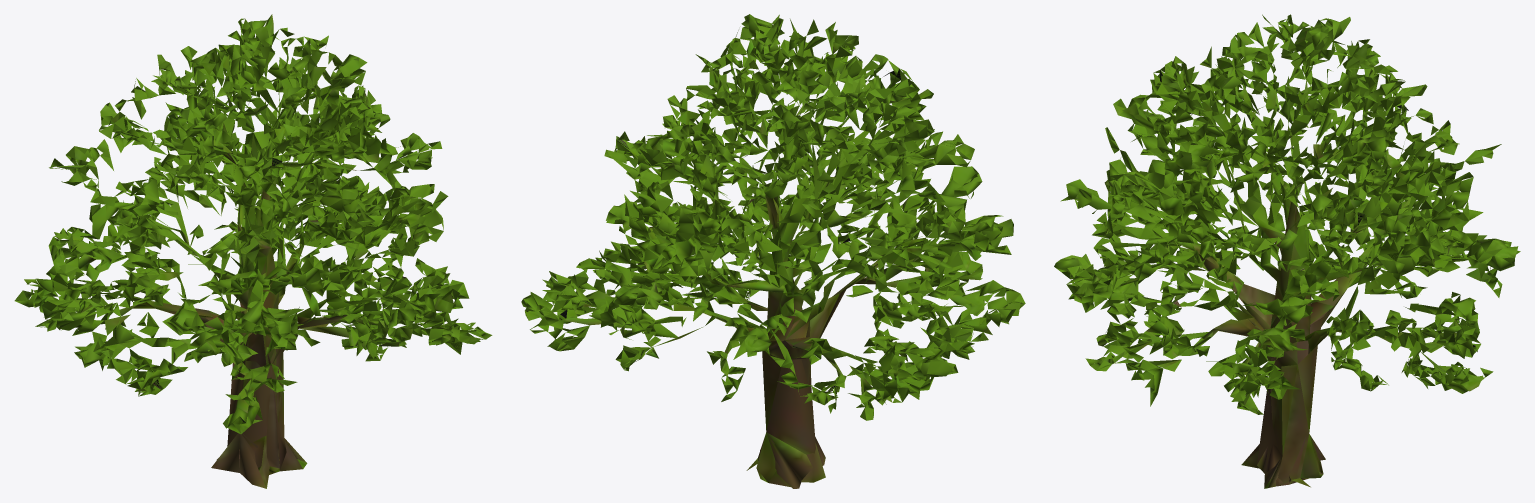
The model's file is getkong-baum3.glb.
3 views of the same model, side by side, from view 1: azimuth 30°, elevation 25°; view 2: azimuth 150°, elevation 25°; view 3: azimuth 270°, elevation 25° (orthographic). The views are drawn at different scales.
Visible parts, largest first — view 1: output_unwrapped; view 2: output_unwrapped; view 3: output_unwrapped.
Boxes of the visible parts, left/top/right/bottom form: output_unwrapped: left=14, top=14, right=492, bottom=488; output_unwrapped: left=521, top=14, right=1025, bottom=488; output_unwrapped: left=1054, top=14, right=1520, bottom=488.
Size of the model in its own units: 1.72 by 1.87 by 1.74.
1 material, 1 textured.
